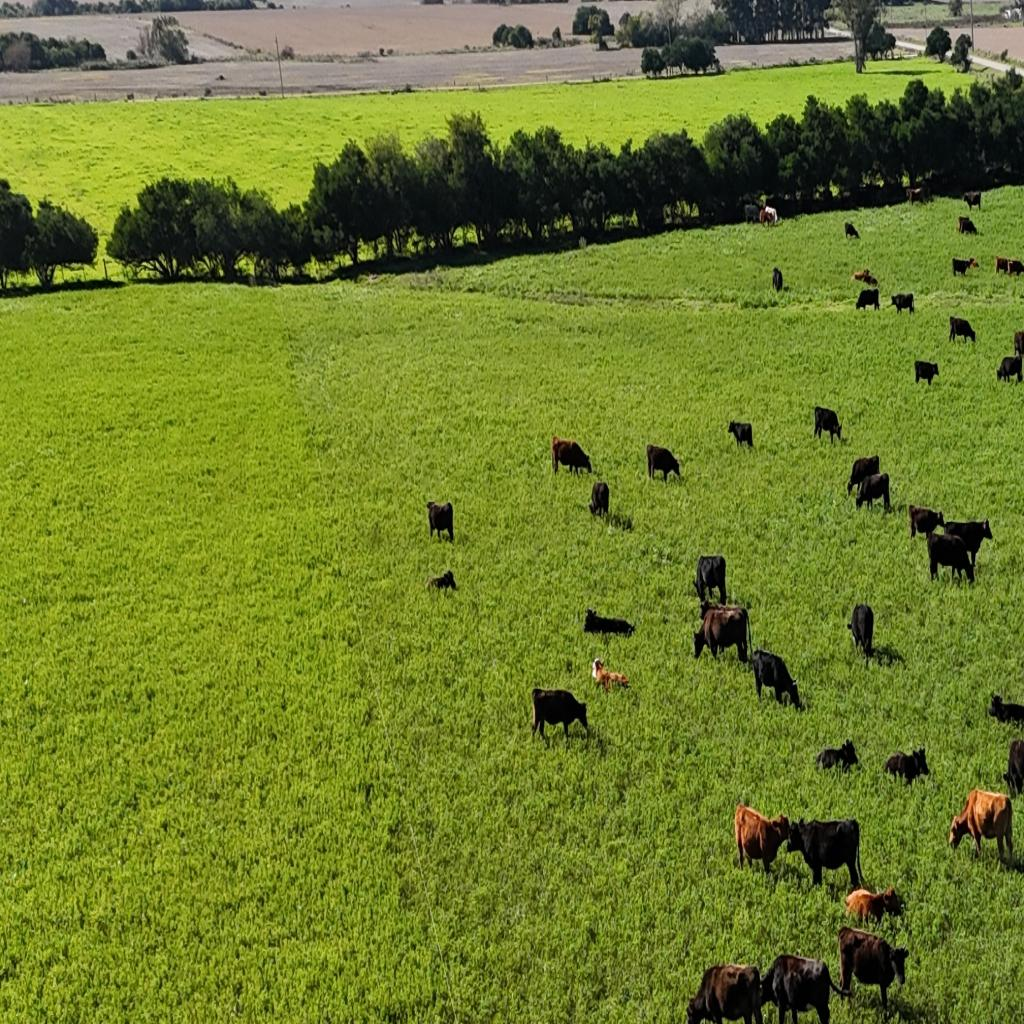cow: (836, 927, 910, 1018), (759, 952, 846, 1024), (787, 815, 863, 892), (948, 788, 1015, 868), (688, 962, 763, 1024), (734, 803, 791, 874), (694, 604, 751, 664), (530, 687, 588, 743), (748, 645, 798, 708), (926, 531, 976, 587), (942, 517, 992, 566), (846, 885, 904, 927), (884, 745, 930, 787), (551, 435, 591, 477), (847, 604, 875, 663), (814, 739, 859, 775), (694, 554, 726, 604), (584, 606, 634, 638), (856, 472, 891, 512), (846, 454, 880, 495), (591, 657, 629, 693), (646, 444, 681, 483), (909, 504, 944, 541), (1003, 738, 1024, 796), (426, 500, 454, 542), (989, 694, 1024, 726), (813, 405, 842, 443), (588, 480, 610, 518), (996, 354, 1023, 384), (692, 616, 710, 660), (727, 420, 753, 450), (949, 316, 975, 344), (993, 254, 1024, 277), (426, 571, 456, 593), (914, 360, 938, 384), (905, 182, 931, 204), (891, 292, 915, 315), (856, 289, 880, 311), (852, 269, 878, 288), (952, 257, 975, 278), (957, 215, 978, 235), (963, 190, 982, 212), (760, 206, 778, 226), (744, 204, 761, 224), (844, 221, 860, 239), (772, 267, 783, 292), (1017, 329, 1024, 360)
